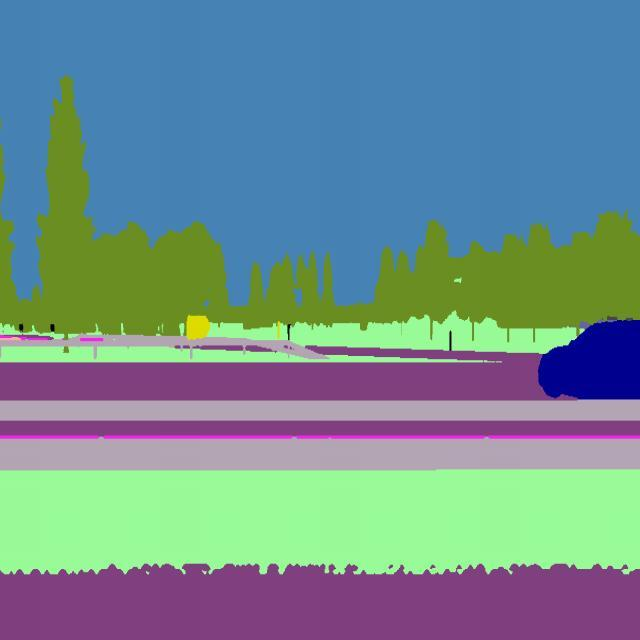safe: (534, 303, 640, 407)
